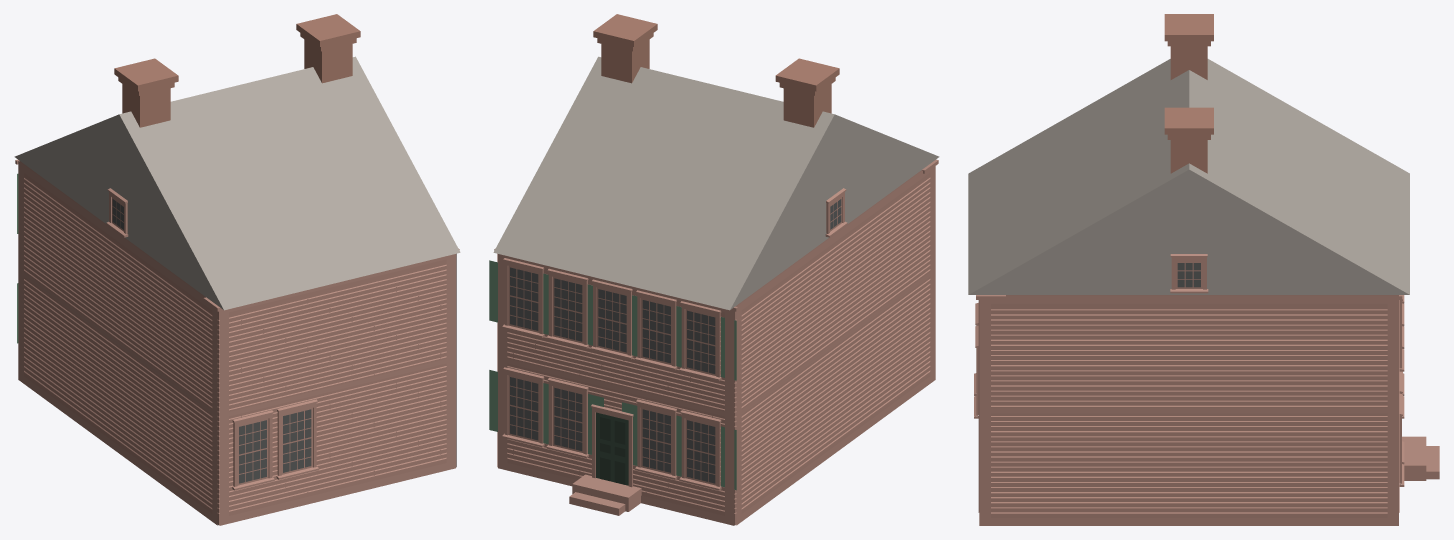
Rendered from recon_1835_blk_school_section_tier_94_d7_07__inferred_1835.glb.
3 renders of one model, left to right at view 1: azimuth 30°, elevation 25°; view 2: azimuth 150°, elevation 25°; view 3: azimuth 270°, elevation 25°, orthographic. The views are drawn at different scales.
Visible parts, largest first — view 1: recon_1835_blk_school_section_tier_94_d7_07__inferred_1835; view 2: recon_1835_blk_school_section_tier_94_d7_07__inferred_1835; view 3: recon_1835_blk_school_section_tier_94_d7_07__inferred_1835.
Boxes of the visible parts, bbox=[...] form: recon_1835_blk_school_section_tier_94_d7_07__inferred_1835: bbox=[14, 14, 460, 525]; recon_1835_blk_school_section_tier_94_d7_07__inferred_1835: bbox=[489, 14, 939, 525]; recon_1835_blk_school_section_tier_94_d7_07__inferred_1835: bbox=[968, 14, 1439, 525].
Size of the model in its own units: 6.87 by 9.84 by 10.68.
